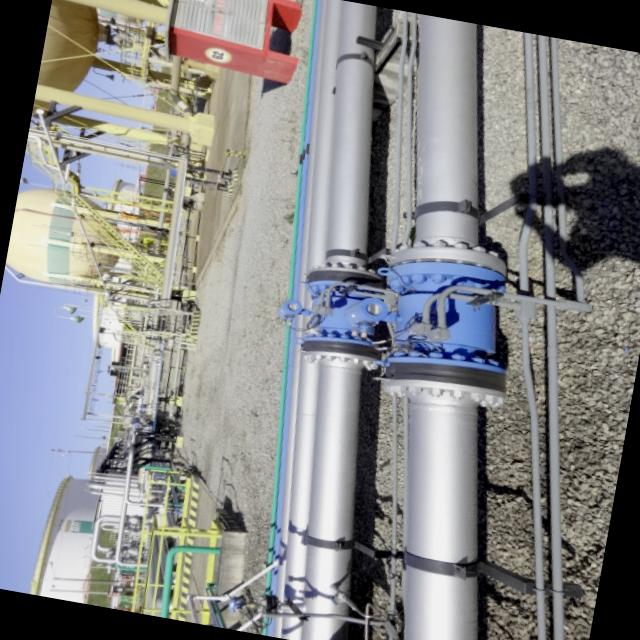gas: (301, 0, 377, 640), (403, 13, 478, 640)
